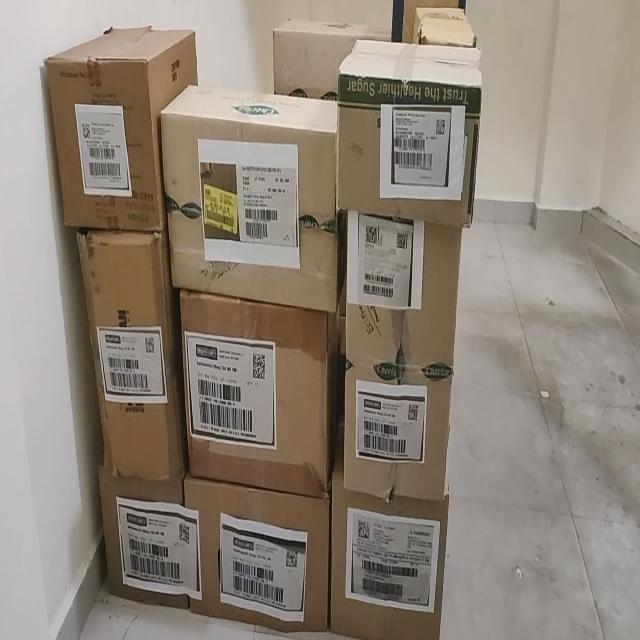BoxFace: (338, 209, 463, 501), (161, 109, 339, 311), (178, 287, 336, 496), (75, 228, 185, 484), (184, 470, 330, 633), (336, 80, 481, 228), (42, 52, 160, 232), (331, 472, 450, 637), (96, 462, 202, 608)
